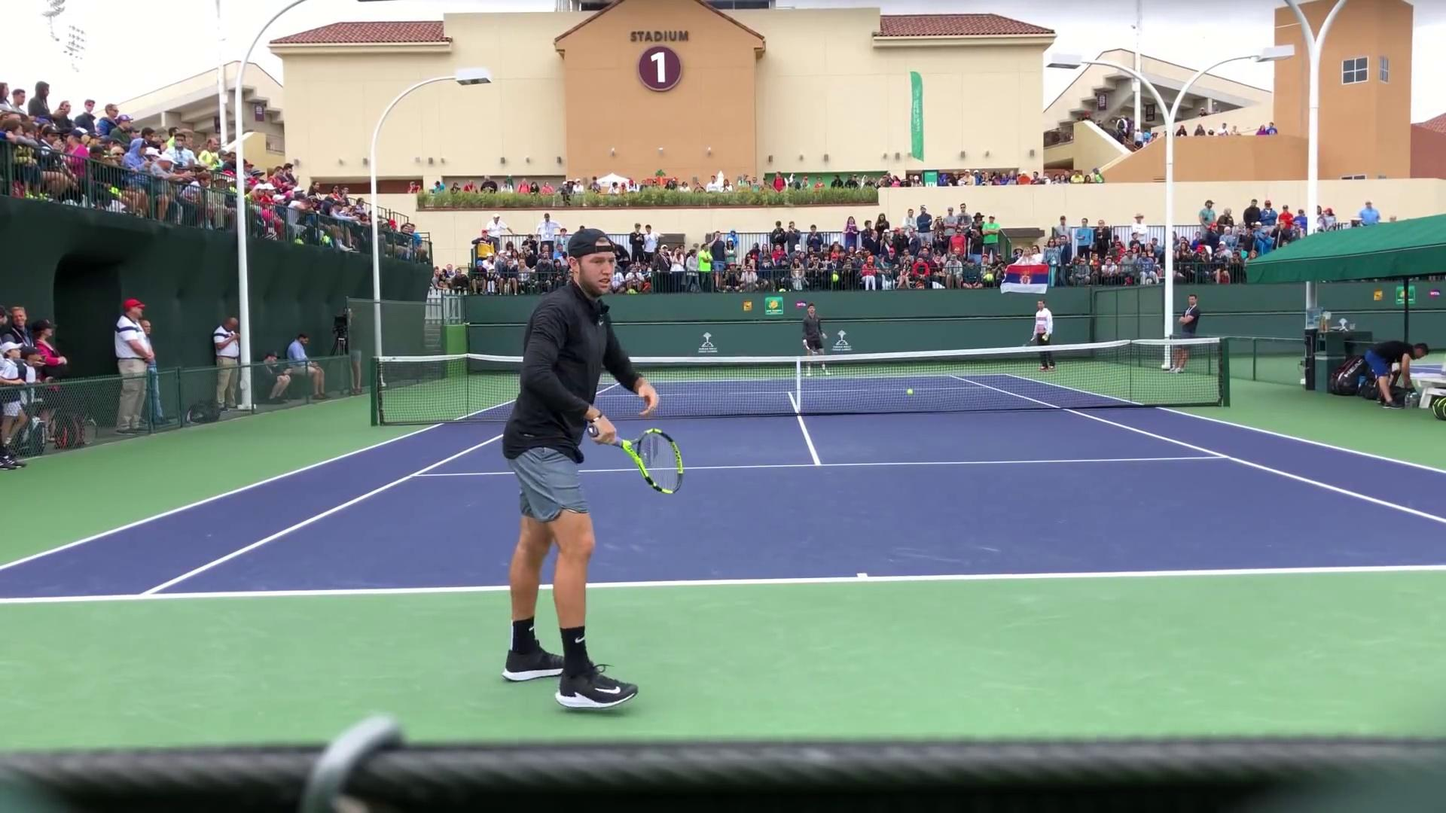ball: (904, 388, 915, 394)
